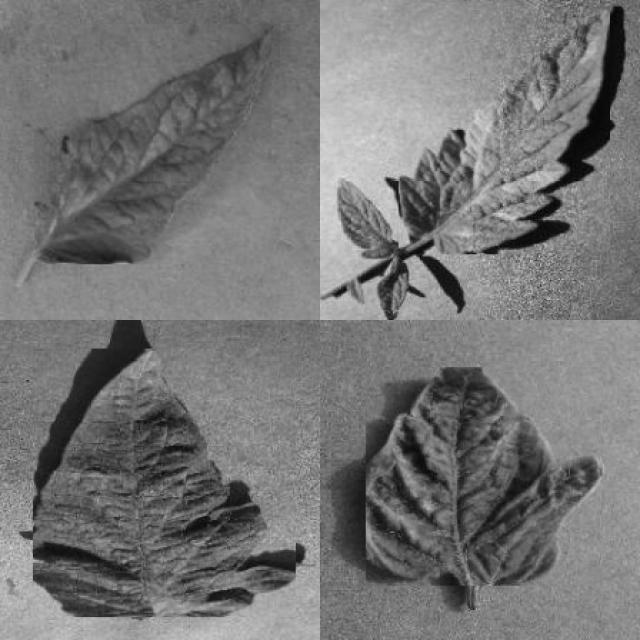Leaf Mold: (35, 25, 271, 265), (399, 4, 611, 255)
Spider Mites: (34, 349, 296, 617)
Yellow Leaf Curl Virus: (366, 367, 603, 586)
